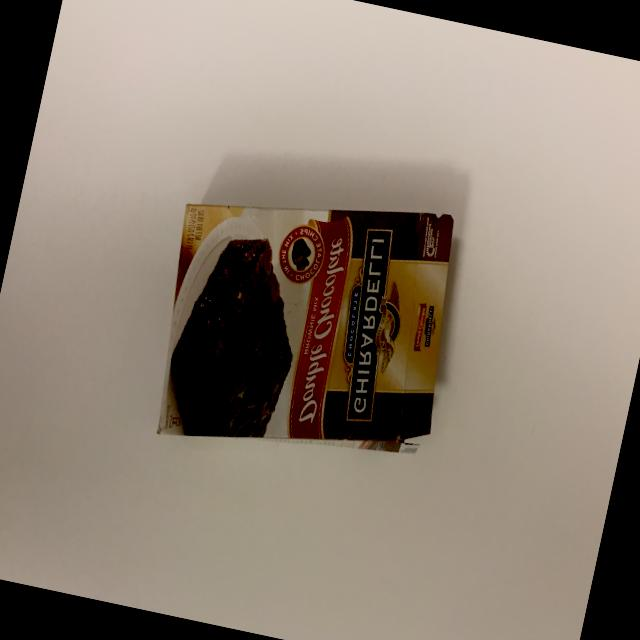Paper: (110, 150, 491, 494)
